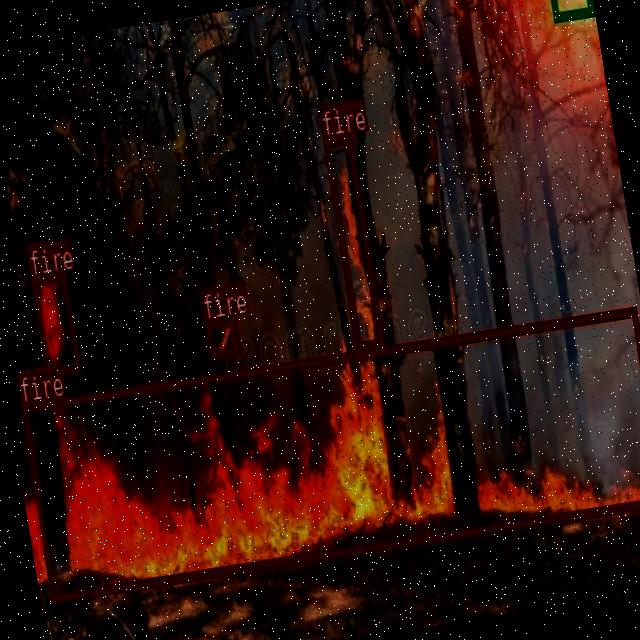fire: (19, 305, 640, 601), (322, 132, 384, 351), (30, 272, 81, 376), (204, 316, 241, 359)
